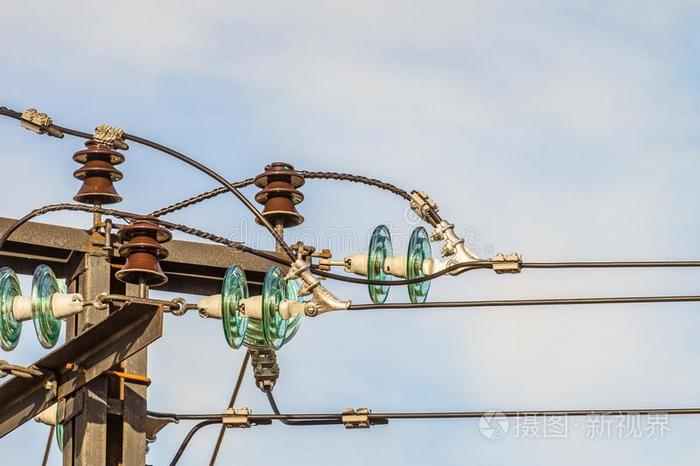insulator: (216, 260, 292, 351), (362, 226, 433, 306), (1, 265, 64, 352), (116, 221, 174, 287), (71, 147, 127, 201), (252, 170, 306, 224)
